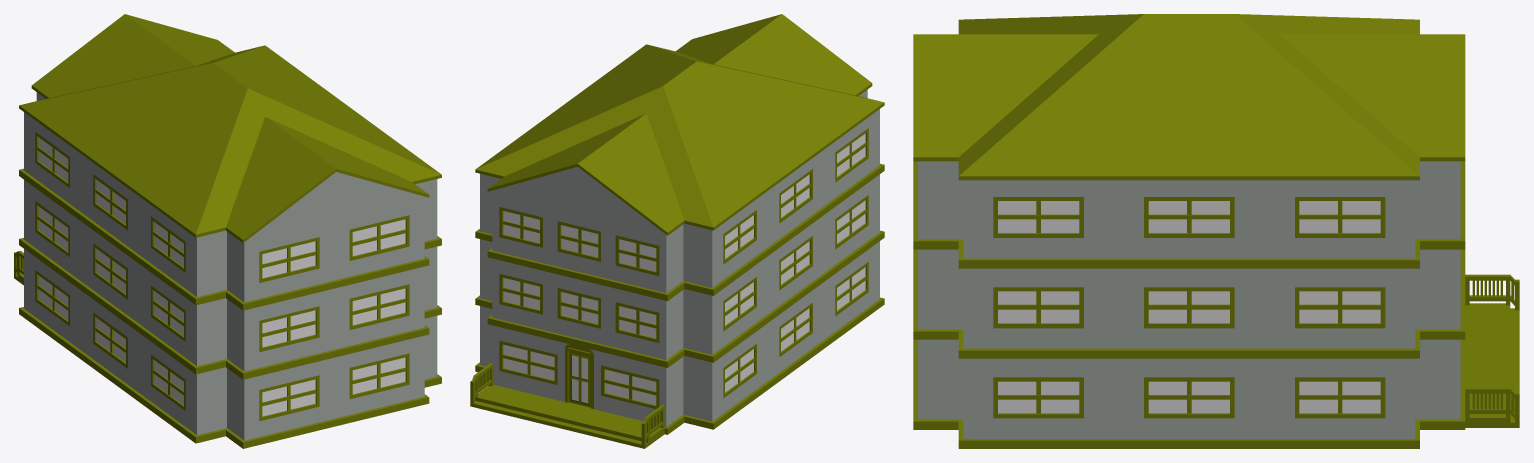
Rendered from medium building 6.fbx.
3 renders of one model, left to right at view 1: azimuth 30°, elevation 25°; view 2: azimuth 150°, elevation 25°; view 3: azimuth 270°, elevation 25°, orthographic. The views are drawn at different scales.
Parts seen in each view (by area): view 1: building_001; view 2: building_001; view 3: building_001.
Part boxes in pixels (box(x1,y1,x2,y2)): building_001: box(14, 14, 441, 448); building_001: box(470, 14, 884, 448); building_001: box(913, 14, 1519, 448).
Bounding box in the file's own units: 820 × 870 × 1340.
